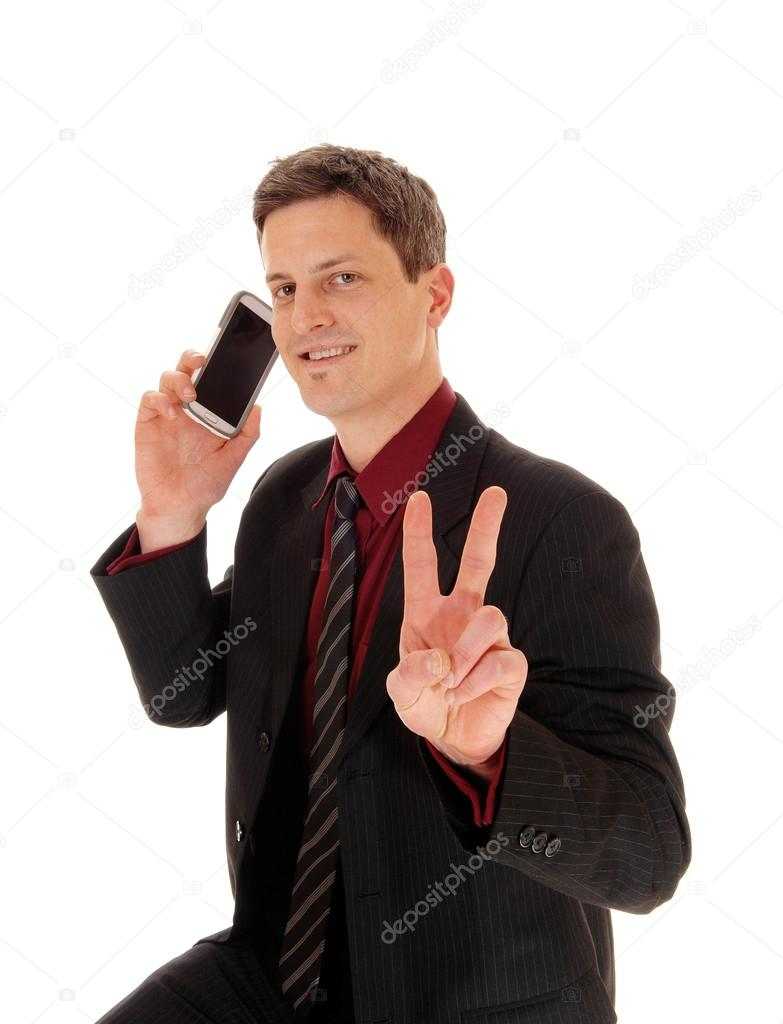phone: (189, 291, 276, 445)
talk: (127, 245, 396, 516)
